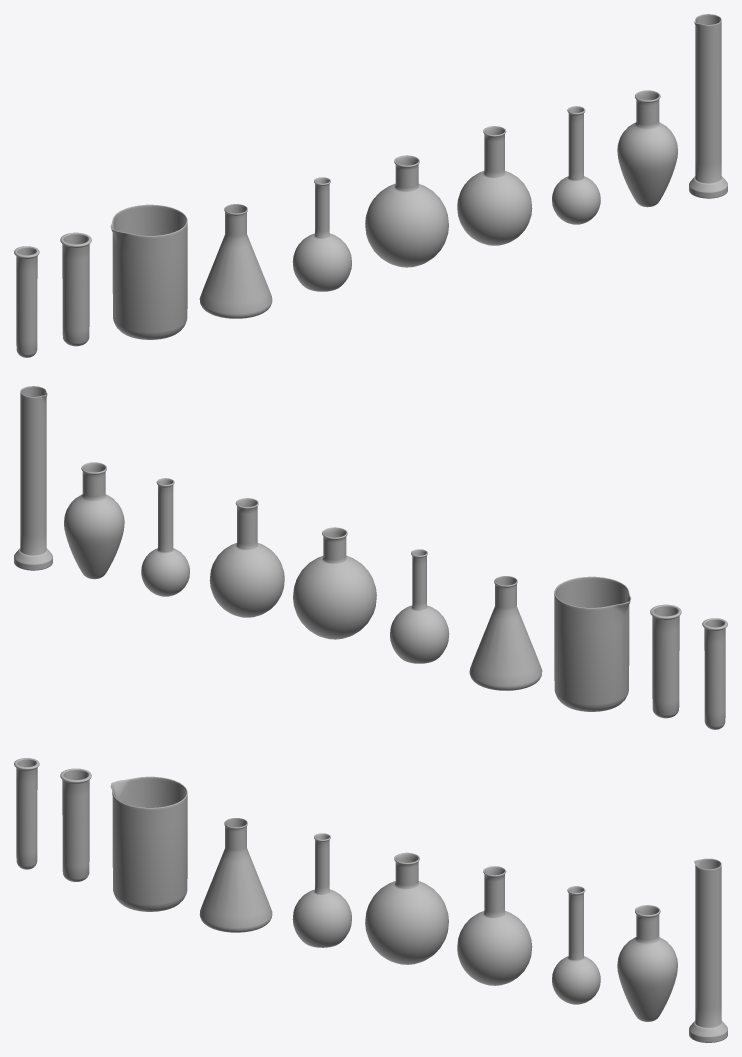
File: laboratory_glasswares_pack.glb
3 views of the same model, one above another, from view 1: azimuth 30°, elevation 25°; view 2: azimuth 150°, elevation 25°; view 3: azimuth 330°, elevation 25° (orthographic).
Visible parts, largest first — view 1: beaker, roundflask_glassflask_0, florenceflask_glassflask_0, graduatedcylinder_glassflask_0, conicalflask_glassflask_0, pearflask_glassflask_0, volumetricflask_glassflask_0, boilingtube_glassflask_0, kjeldahlflask_glassflask_0, testtube_glassflask_0; view 2: beaker, roundflask_glassflask_0, florenceflask_glassflask_0, graduatedcylinder_glassflask_0, conicalflask_glassflask_0, pearflask_glassflask_0, volumetricflask_glassflask_0, boilingtube_glassflask_0, kjeldahlflask_glassflask_0, testtube_glassflask_0; view 3: beaker, roundflask_glassflask_0, florenceflask_glassflask_0, graduatedcylinder_glassflask_0, conicalflask_glassflask_0, pearflask_glassflask_0, volumetricflask_glassflask_0, boilingtube_glassflask_0, kjeldahlflask_glassflask_0, testtube_glassflask_0.
Boxes of the visible parts, x1,y1,x2,y2 form: beaker: (110,204,187,339); roundflask_glassflask_0: (365,155,448,267); florenceflask_glassflask_0: (457,126,532,245); graduatedcylinder_glassflask_0: (689,14,727,198); conicalflask_glassflask_0: (199,204,272,318); pearflask_glassflask_0: (617,90,677,207); volumetricflask_glassflask_0: (292,177,351,291); boilingtube_glassflask_0: (60,232,91,346); kjeldahlflask_glassflask_0: (552,106,600,224); testtube_glassflask_0: (14,246,39,357); beaker: (554,576,631,711); roundflask_glassflask_0: (293,527,376,639); florenceflask_glassflask_0: (209,498,284,617); graduatedcylinder_glassflask_0: (14,386,52,570); conicalflask_glassflask_0: (469,576,542,690); pearflask_glassflask_0: (64,462,124,579); volumetricflask_glassflask_0: (390,549,449,663); boilingtube_glassflask_0: (650,604,681,718); kjeldahlflask_glassflask_0: (141,478,189,596); testtube_glassflask_0: (702,618,727,729); beaker: (110,776,187,911); roundflask_glassflask_0: (365,852,448,964); florenceflask_glassflask_0: (457,866,532,985); graduatedcylinder_glassflask_0: (689,858,727,1042); conicalflask_glassflask_0: (199,818,272,932); pearflask_glassflask_0: (617,905,677,1021); volumetricflask_glassflask_0: (292,833,351,947); boilingtube_glassflask_0: (60,768,91,881); kjeldahlflask_glassflask_0: (552,886,600,1004); testtube_glassflask_0: (14,758,39,869).
Bounding box in the file's own units: 0.3709 × 0.0854 × 0.0381.
Materials: 1 (1 with a texture image).
